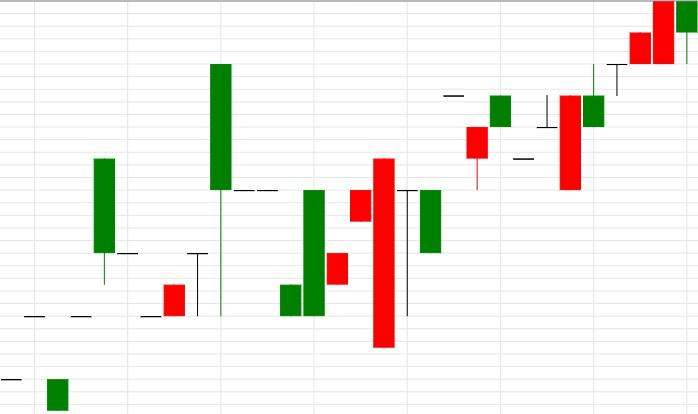evening_star_fall: (279, 158, 443, 349)
